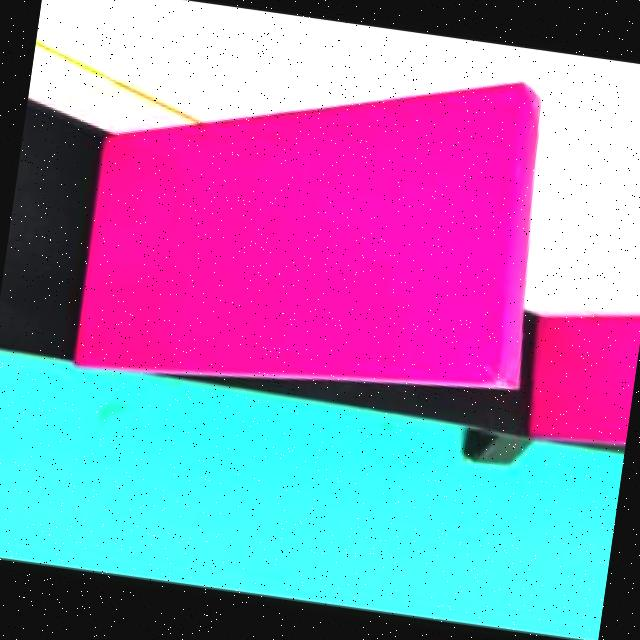xparking: (106, 44, 536, 382), (546, 314, 635, 438)
